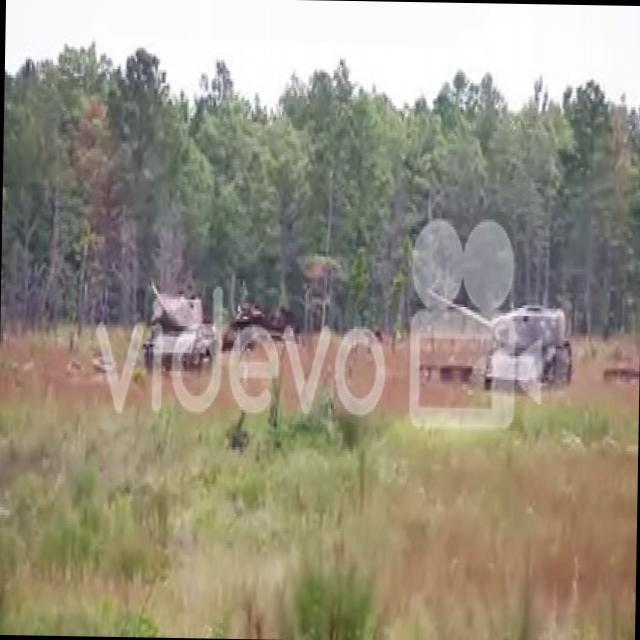rocket: (183, 304, 320, 358)
